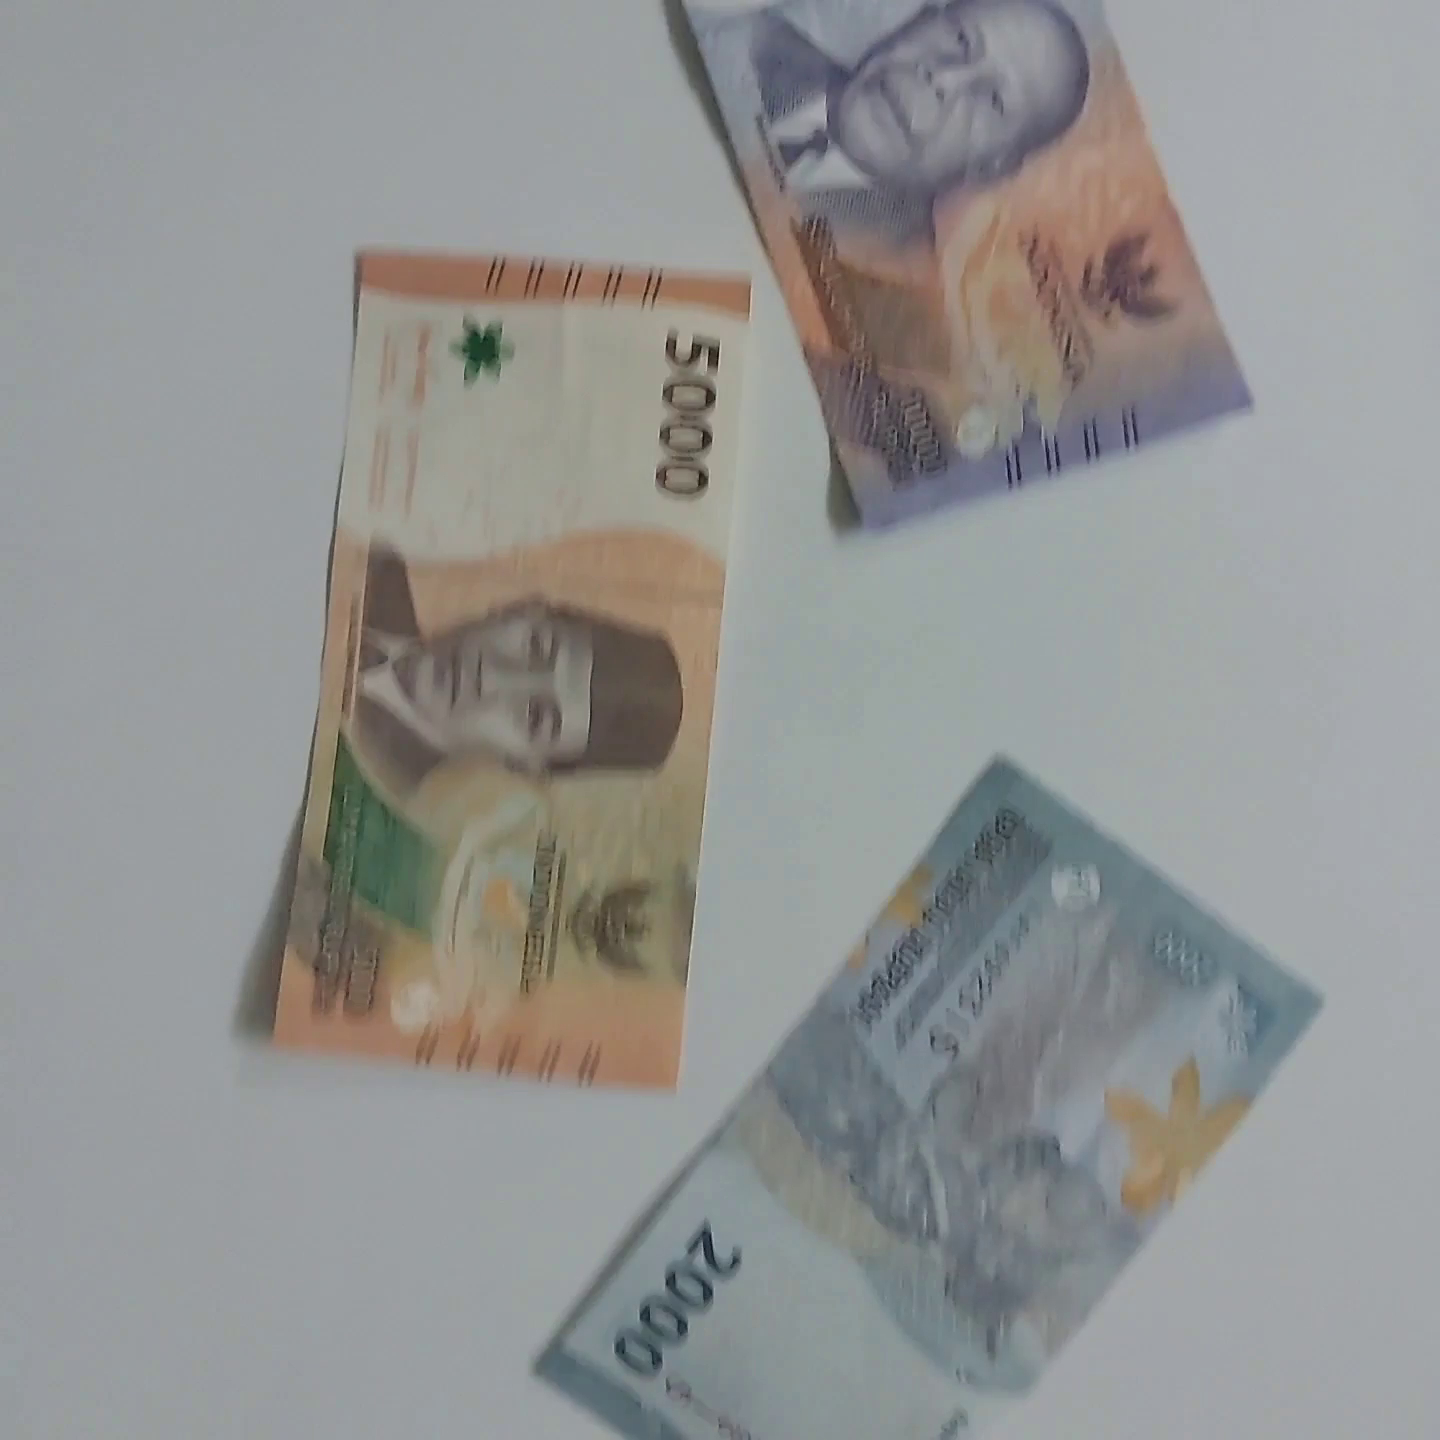10k: (348, 194, 802, 1129)
2k: (632, 0, 1328, 551), (1006, 736, 1429, 1299), (357, 1189, 1087, 1440)
